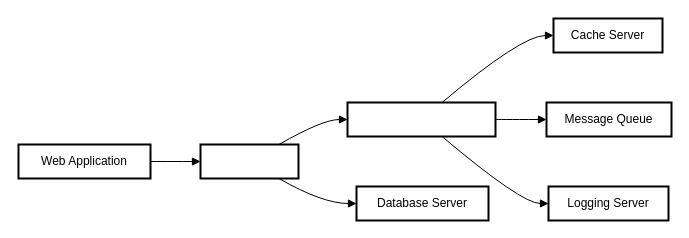
Some shapes in this 689 by 238 pixel diagram are drawn without their labels. Each missing label, with the centre of its shape:
"Application Server" belongs at [421,119].
"Web Server" belongs at [249,161].
